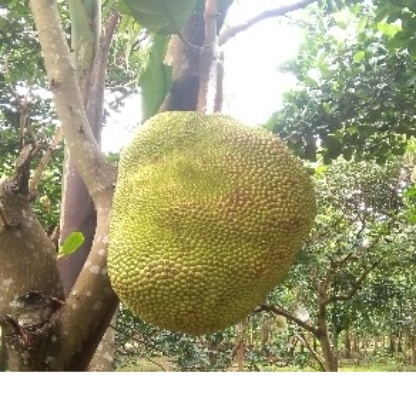mit: (100, 112, 312, 330)
